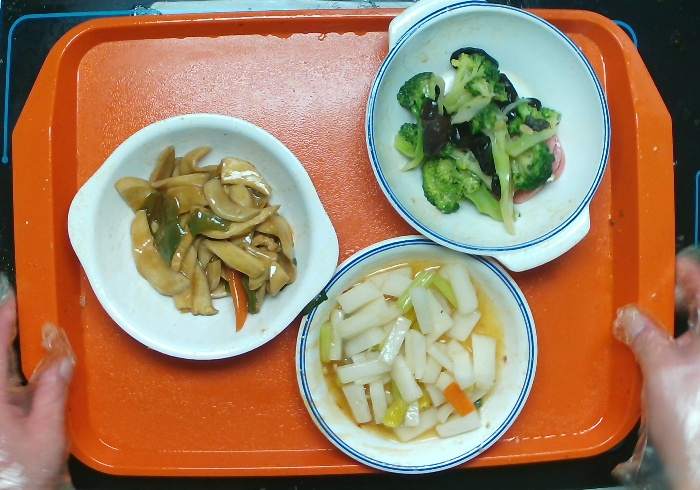HZYJPL-Dai_Er_Bai_Yuan_Wan: (56, 113, 341, 368)
HZYJPL-Lan_Bian_Dai_Er_Wan: (361, 1, 609, 270)
HZYJPL-Lan_Bian_Yuan_Die: (293, 228, 534, 484)
